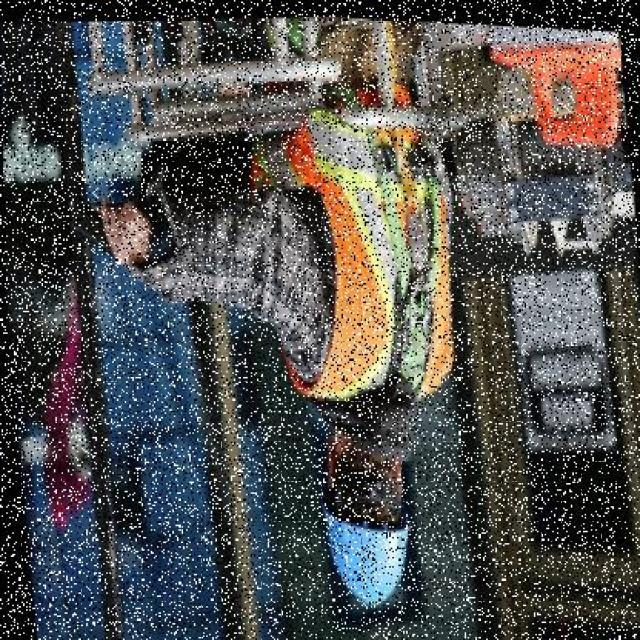helmet: (312, 494, 424, 611)
vest: (254, 102, 462, 408)
